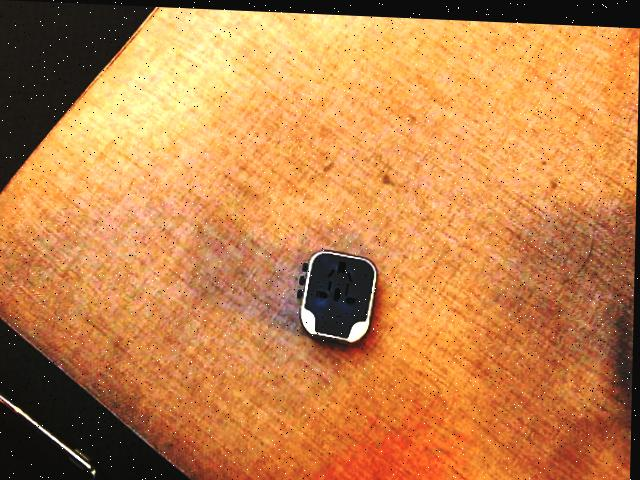adapter: (296, 245, 378, 341)
